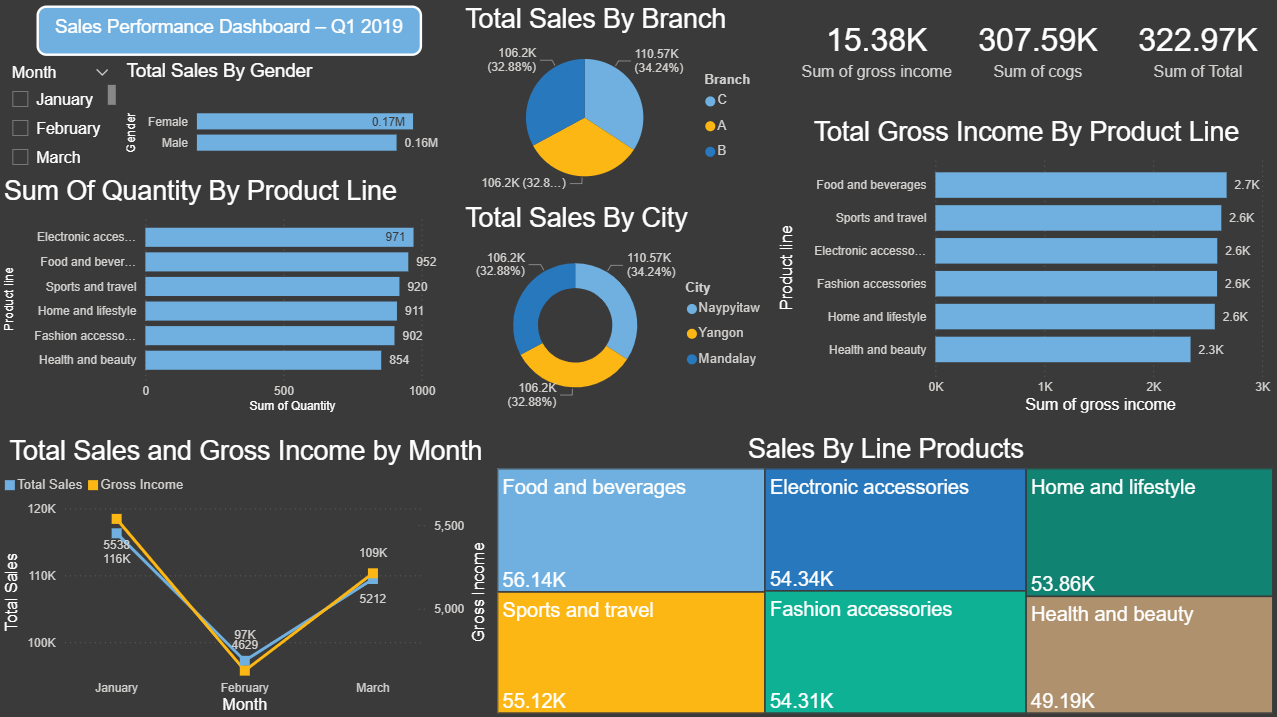

What the dashboard file says about the page in this screenshot:
{"tool":"powerbi","page":{"name":"Dashboard","canvas":[1280,720],"ordinal":0},"visuals":[{"type":"card","fields":{"Values":["Sum(supermarket_sales.gross income)"]},"box":[797.6,0,160.7,100],"z":0},{"type":"card","fields":{"Values":["Sum(supermarket_sales.Total)"]},"box":[1119.1,0,160.7,100],"z":1000},{"type":"card","fields":{"Values":["Sum(supermarket_sales.cogs)"]},"box":[958.3,0,160.7,100],"z":2000},{"type":"pieChart","title":"Total Sales By Branch","fields":{"Category":["supermarket_sales.Branch"],"Y":["Sum(supermarket_sales.Total)"]},"box":[461.1,6.9,314.2,197.6],"z":3000},{"type":"donutChart","title":"Total Sales By City","fields":{"Category":["supermarket_sales.City"],"Y":["Sum(supermarket_sales.Total)"]},"box":[461.1,204.5,314.2,215.4],"z":4000},{"type":"treemap","title":" Sales By Line Products","fields":{"Group":["supermarket_sales.Product line"],"Values":["Sum(supermarket_sales.Total)"]},"box":[494,436.4,786.3,284],"z":5000},{"type":"slicer","fields":{"Values":["supermarket_sales.Date.Variation.Date Hierarchy.Month"]},"box":[0,61.7,122.1,115.3],"z":7000},{"type":"lineChart","fields":{"Category":["supermarket_sales.Date.Variation.Date Hierarchy.Month"],"Y":["Sum(supermarket_sales.Total)"],"Y2":["Sum(supermarket_sales.gross income)"]},"box":[0,437.7,494,282.7],"z":8000},{"type":"clusteredBarChart","title":"Total Gross Income By Product Line","fields":{"Category":["supermarket_sales.Product line"],"Y":["Sum(supermarket_sales.gross income)"]},"box":[775,119,504.8,301.2],"z":9000},{"type":"clusteredBarChart","title":"Sum Of Quantity By Product Line","fields":{"Category":["supermarket_sales.Product line"],"Y":["Sum(supermarket_sales.Quantity)"]},"box":[0,177.5,460,242.5],"z":10000},{"type":"textbox","box":[38.1,7.1,385.7,50],"z":11000},{"type":"clusteredBarChart","title":"Total Sales By Gender","fields":{"Category":["supermarket_sales.Gender"],"Y":["Sum(supermarket_sales.Total)"]},"box":[122.6,61.9,338.1,115.5],"z":12000}]}

Visuals, with their boxes in screenshot pixels (x1, y1, x2, y2), scaled from the page's 1280x720 canvas onto the 1277x717 screenshot:
card - Sum(supermarket_sales.gross income): (x1=796, y1=0, x2=956, y2=100)
card - Sum(supermarket_sales.Total): (x1=1116, y1=0, x2=1276, y2=100)
card - Sum(supermarket_sales.cogs): (x1=956, y1=0, x2=1116, y2=100)
"Total Sales By Branch" pieChart: (x1=460, y1=7, x2=773, y2=204)
"Total Sales By City" donutChart: (x1=460, y1=204, x2=773, y2=418)
" Sales By Line Products" treemap: (x1=493, y1=435, x2=1276, y2=716)
slicer - supermarket_sales.Date.Variation.Date Hierarchy.Month: (x1=0, y1=61, x2=122, y2=176)
lineChart - supermarket_sales.Date.Variation.Date Hierarchy.Month x Sum(supermarket_sales.Total): (x1=0, y1=436, x2=493, y2=716)
"Total Gross Income By Product Line" clusteredBarChart: (x1=773, y1=119, x2=1276, y2=418)
"Sum Of Quantity By Product Line" clusteredBarChart: (x1=0, y1=177, x2=459, y2=418)
textbox: (x1=38, y1=7, x2=423, y2=57)
"Total Sales By Gender" clusteredBarChart: (x1=122, y1=62, x2=460, y2=177)
